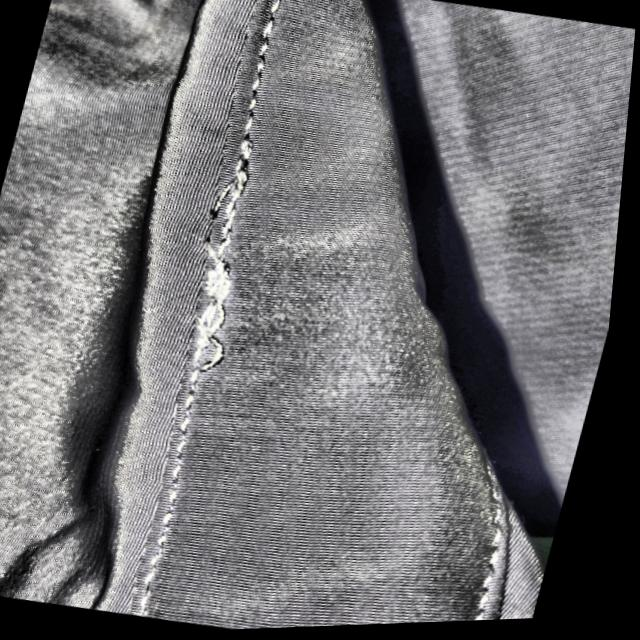Stitch: (145, 138, 317, 398)
